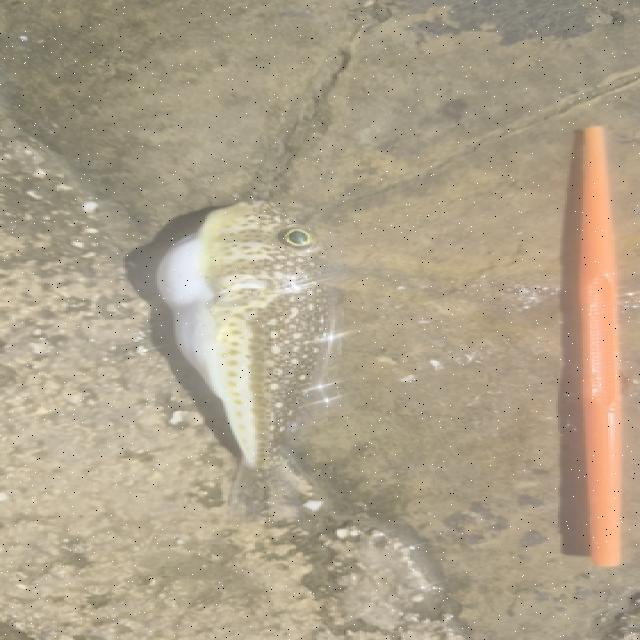Balik: (158, 203, 327, 469)
